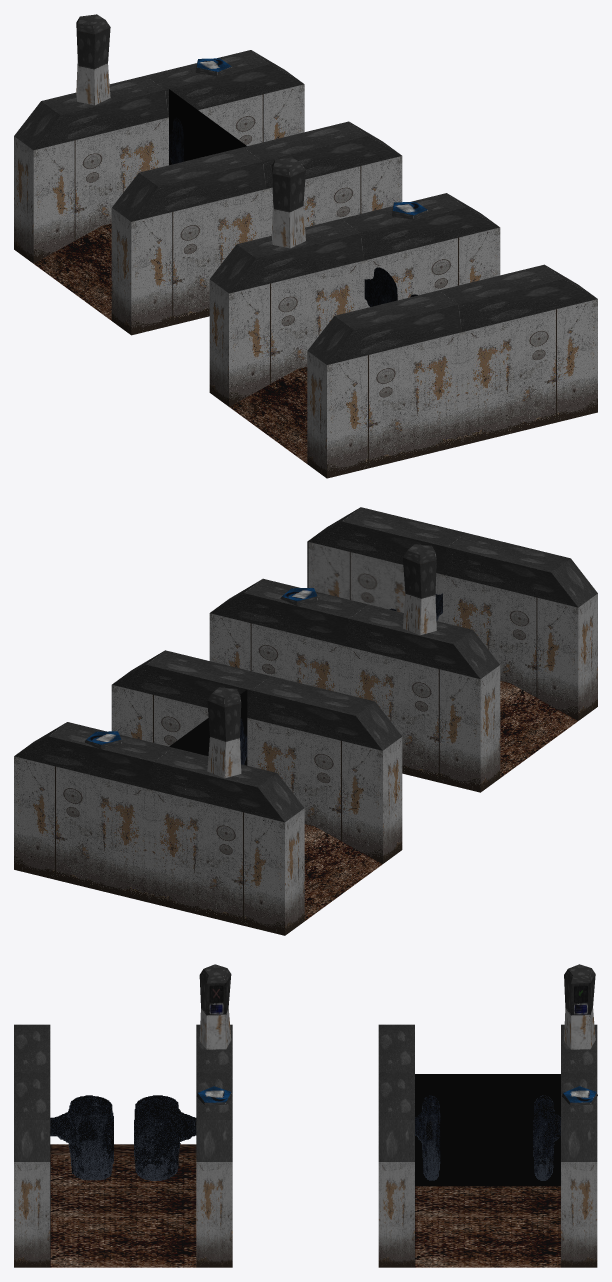
Rendered from Transport Gate.fbx.
3 renders of one model, top to bottom at view 1: azimuth 30°, elevation 25°; view 2: azimuth 150°, elevation 25°; view 3: azimuth 270°, elevation 25°, orthographic. The views are drawn at different scales.
Parts seen in each view (by area): view 1: Cylinder, Cylinder.001, Plane.001, Plane; view 2: Cylinder.001, Cylinder, Plane.001; view 3: Cylinder, Cylinder.001, Plane.001, Plane.
Part boxes in pixels (x1=…): Cylinder: x1=209, y1=157, x2=597, y2=478; Cylinder.001: x1=14, y1=14, x2=402, y2=335; Plane.001: x1=169, y1=89, x2=246, y2=165; Plane: x1=364, y1=267, x2=417, y2=306; Cylinder.001: x1=14, y1=650, x2=402, y2=935; Cylinder: x1=209, y1=507, x2=597, y2=792; Plane.001: x1=169, y1=690, x2=247, y2=765; Cylinder: x1=14, y1=964, x2=232, y2=1267; Cylinder.001: x1=378, y1=964, x2=597, y2=1267; Plane.001: x1=415, y1=1074, x2=560, y2=1186; Plane: x1=50, y1=1095, x2=196, y2=1180.
Bounding box in the file's own units: 400 × 310 × 801.
